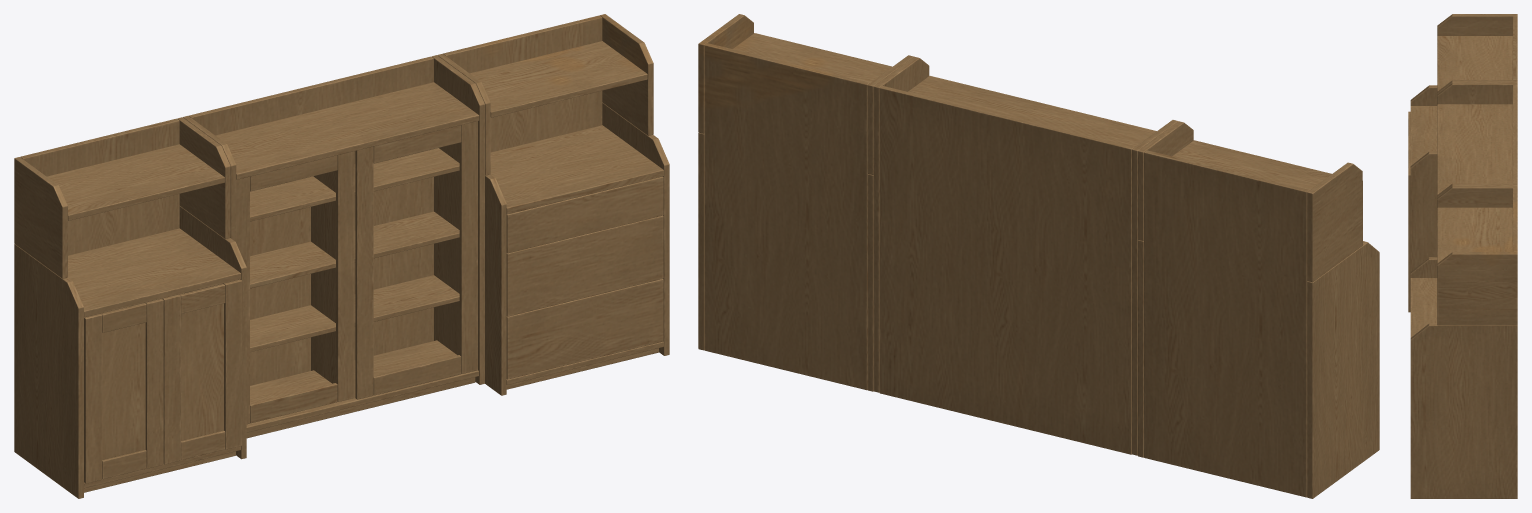
Rendered from Almacenamiento_Hauga.glb.
3 renders of one model, left to right at view 1: azimuth 30°, elevation 25°; view 2: azimuth 150°, elevation 25°; view 3: azimuth 270°, elevation 25°, orthographic. The views are drawn at different scales.
Parts seen in each view (by area): view 1: model_Almacenamiento, Cube.001, Cube.003, door_Puerta 2, door_Puerta 1, door_Puerta 3, anim_Cajon 2, anim_Cajon 3, door_Puerta 4, anim_Cajon 1; view 2: model_Almacenamiento, Cube.001, Cube.003; view 3: Cube.003, Cube.001, model_Almacenamiento, door_Puerta 1.
Part boxes in pixels (x1,y1,x2,y2): model_Almacenamiento: (183,55,484,438); Cube.001: (14,117,246,498); Cube.003: (437,14,669,395); door_Puerta 2: (84,298,163,483); door_Puerta 1: (162,279,242,464); door_Puerta 3: (355,121,477,399); anim_Cajon 2: (506,215,663,316); anim_Cajon 3: (506,279,663,379); door_Puerta 4: (236,151,354,424); anim_Cajon 1: (506,176,663,253); model_Almacenamiento: (873,56,1178,455); Cube.001: (1138,121,1379,498); Cube.003: (698,14,913,391); Cube.003: (1410,186,1517,498); Cube.001: (1410,14,1517,271); model_Almacenamiento: (1437,82,1517,196); door_Puerta 1: (1408,143,1410,312).
Bounding box in the file's own units: 2.44 × 1.16 × 0.4699.
2 materials, 2 textured.
